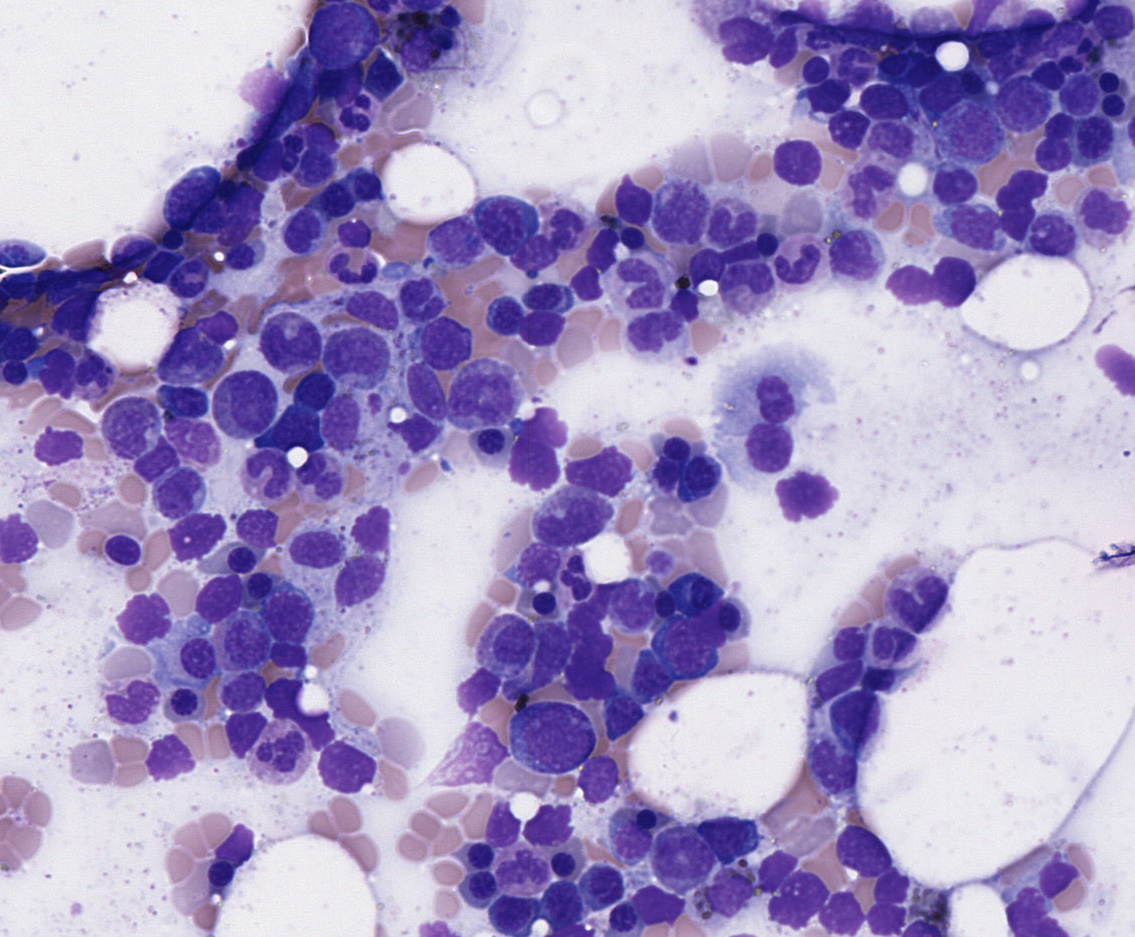objectness: (674, 567, 724, 617), (173, 631, 223, 681), (606, 583, 656, 633), (540, 499, 590, 549), (947, 197, 997, 247), (805, 746, 855, 796), (279, 201, 329, 251), (621, 255, 671, 305), (390, 278, 440, 328), (625, 302, 675, 352), (149, 469, 199, 519), (832, 228, 882, 278), (776, 243, 826, 293), (699, 207, 749, 257), (252, 440, 302, 490), (65, 349, 115, 399), (158, 256, 208, 306), (328, 89, 378, 139), (844, 157, 894, 207), (549, 556, 599, 606), (535, 199, 585, 249), (258, 723, 308, 773), (822, 41, 872, 91), (169, 420, 219, 470), (491, 846, 541, 896), (323, 247, 373, 297), (293, 453, 343, 503), (456, 371, 506, 421), (481, 619, 531, 669), (212, 618, 262, 668), (653, 190, 703, 240), (105, 406, 155, 456), (331, 328, 381, 378), (223, 373, 273, 423), (654, 830, 704, 880), (895, 584, 945, 634), (268, 323, 318, 373), (720, 253, 770, 303), (524, 711, 574, 761), (309, 6, 359, 56), (563, 584, 613, 634), (595, 686, 645, 736), (109, 674, 159, 724), (268, 78, 318, 128), (288, 140, 338, 190), (518, 400, 568, 450), (970, 20, 1020, 70), (219, 174, 269, 224), (118, 591, 168, 641), (821, 106, 871, 156), (576, 753, 626, 803), (513, 305, 563, 355), (699, 866, 749, 916), (217, 706, 267, 756), (773, 138, 823, 188), (20, 255, 70, 305), (621, 883, 671, 933), (350, 503, 400, 553), (318, 743, 368, 793), (266, 125, 316, 175), (146, 210, 196, 260), (235, 501, 285, 551), (1027, 48, 1077, 98), (35, 425, 85, 475), (525, 630, 575, 680), (924, 254, 974, 304), (742, 422, 792, 472), (581, 443, 631, 493), (39, 295, 89, 345), (446, 731, 496, 781), (209, 824, 259, 874), (861, 655, 911, 705), (135, 240, 185, 290), (1051, 29, 1101, 79), (760, 21, 810, 71), (478, 804, 528, 854), (522, 798, 572, 848), (507, 230, 557, 280), (683, 235, 733, 285), (315, 57, 365, 107), (859, 75, 909, 125), (513, 535, 563, 585), (883, 255, 933, 305), (243, 133, 293, 183), (879, 14, 929, 64), (258, 629, 308, 679), (991, 196, 1041, 246), (788, 47, 838, 97), (101, 222, 151, 272), (742, 843, 792, 893), (925, 70, 975, 120), (507, 444, 557, 494), (452, 663, 502, 713), (779, 468, 829, 518), (132, 436, 182, 486), (294, 107, 344, 157), (862, 109, 912, 159), (824, 689, 874, 739), (257, 672, 307, 722), (998, 162, 1048, 212), (801, 71, 851, 121), (861, 867, 911, 917), (1027, 129, 1077, 179), (405, 362, 455, 412), (327, 205, 377, 255), (1031, 104, 1081, 154), (661, 280, 711, 330), (606, 175, 656, 225), (34, 345, 84, 395), (722, 11, 772, 61), (143, 733, 193, 783), (813, 653, 863, 703), (901, 44, 951, 94), (978, 42, 1028, 92), (345, 278, 395, 328), (559, 266, 609, 316), (562, 625, 612, 675), (183, 192, 233, 242), (833, 827, 883, 877), (866, 41, 916, 91), (997, 78, 1047, 128), (93, 524, 143, 574), (1077, 185, 1127, 235), (1036, 848, 1086, 898), (577, 224, 627, 274), (173, 511, 223, 561), (59, 251, 109, 301), (794, 14, 844, 64), (946, 106, 996, 156), (638, 536, 688, 586), (1035, 15, 1085, 65), (1004, 880, 1054, 930), (1010, 2, 1060, 52), (747, 372, 797, 422), (295, 706, 345, 756), (762, 869, 812, 919), (430, 213, 480, 263), (821, 618, 871, 668), (925, 157, 975, 207), (1053, 71, 1103, 121), (1028, 210, 1078, 260), (415, 313, 465, 363), (1083, 58, 1133, 108), (605, 819, 655, 869), (458, 858, 508, 908), (475, 197, 525, 247), (535, 879, 585, 929), (160, 171, 210, 221), (655, 622, 705, 672), (355, 50, 405, 100), (519, 271, 569, 321), (700, 811, 750, 861), (230, 560, 280, 610), (1069, 110, 1119, 160), (213, 533, 263, 583), (159, 376, 209, 426), (160, 674, 210, 724), (215, 231, 265, 281), (706, 591, 756, 641), (477, 289, 527, 339), (340, 160, 390, 210), (269, 405, 319, 455), (648, 424, 698, 474), (312, 174, 362, 224), (539, 838, 589, 888), (451, 828, 501, 878), (518, 577, 568, 627), (288, 363, 338, 413), (578, 857, 628, 907), (465, 415, 515, 465), (623, 651, 673, 701), (261, 587, 311, 637), (191, 845, 241, 895), (672, 447, 722, 497), (808, 888, 858, 937), (487, 888, 537, 937), (1089, 83, 1135, 133), (1088, 0, 1135, 47), (596, 893, 646, 937), (0, 346, 43, 396), (0, 325, 43, 375), (902, 0, 952, 43), (859, 895, 909, 937), (0, 515, 42, 565), (0, 227, 40, 277), (0, 259, 38, 309), (1097, 340, 1135, 390), (845, 0, 895, 37), (781, 0, 831, 36), (958, 0, 1008, 35), (1019, 904, 1069, 937), (896, 907, 946, 937)
